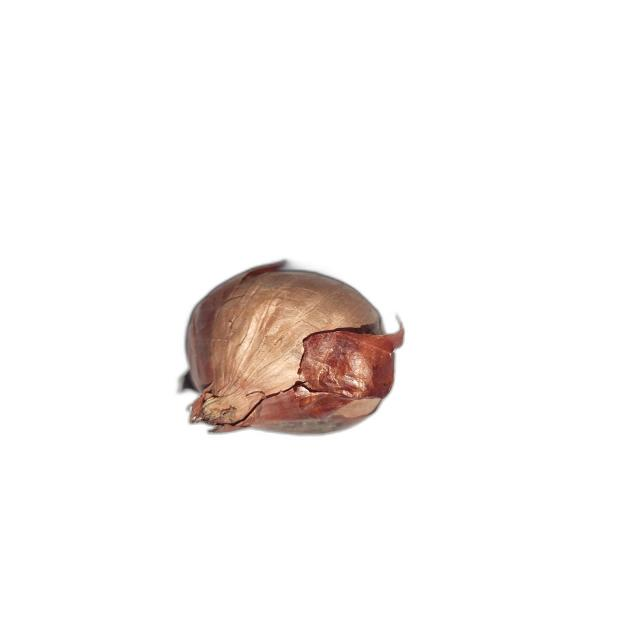onion: (180, 260, 408, 436)
